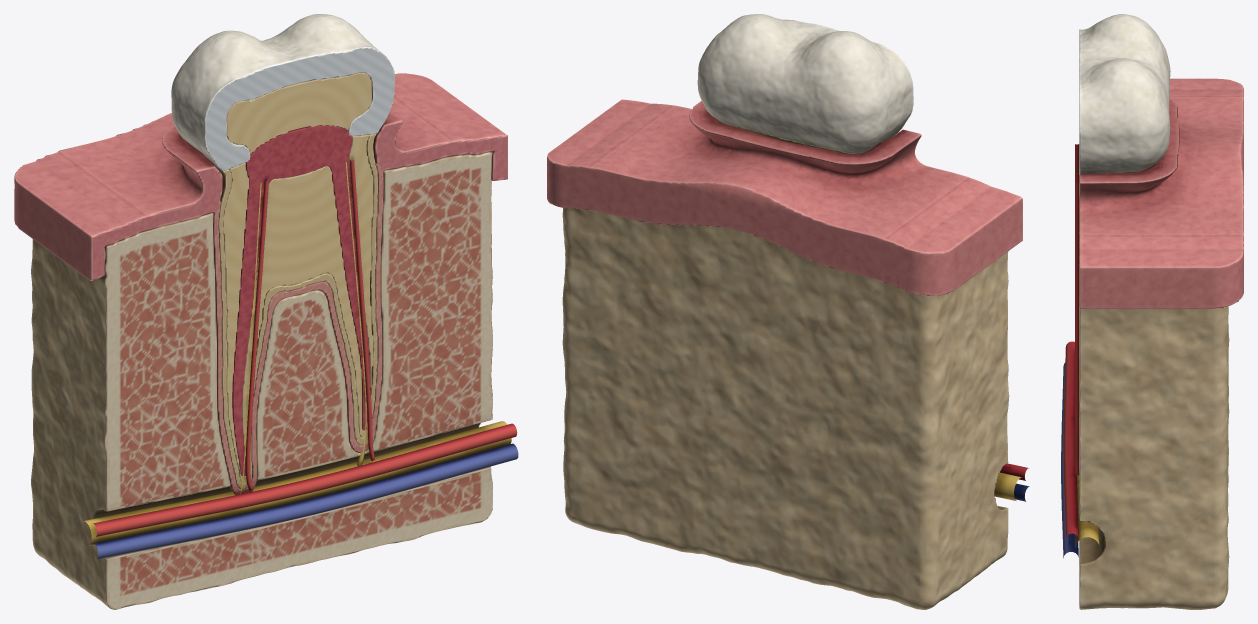
The model's file is tooth.98aa9a2f.glb.
The picture shows the model from 3 angles, left to right: view 1: azimuth 30°, elevation 25°; view 2: azimuth 150°, elevation 25°; view 3: azimuth 270°, elevation 25°; orthographic projection. The views are drawn at different scales.
Visible parts, largest first — view 1: Alveolar bone, Gingiva, Dentin, Enamel, Pulp, Dental arteries, Dental veins, Periodontal ligament, Inferior alveolar nerve, Cementum; view 2: Alveolar bone, Gingiva, Enamel; view 3: Alveolar bone, Gingiva, Enamel, Dental arteries, Inferior alveolar nerve, Dental veins.
Part boxes in pixels (x1,y1,x2,y2): Alveolar bone: (31,152,492,609); Gingiva: (14,73,507,280); Dentin: (223,72,373,482); Enamel: (171,14,394,170); Pulp: (232,125,370,475); Dental arteries: (93,160,517,536); Dental veins: (94,443,518,559); Periodontal ligament: (213,162,383,494); Inferior alveolar nerve: (83,162,511,545); Cementum: (215,134,377,489); Alveolar bone: (562,208,1009,609); Gingiva: (547,99,1022,296); Enamel: (697,14,913,153); Alveolar bone: (1079,306,1229,609); Gingiva: (1079,78,1243,308); Enamel: (1079,14,1170,174); Dental arteries: (1063,144,1078,538); Inferior alveolar nerve: (1075,144,1099,546); Dental veins: (1061,362,1078,558).
Size of the model in its own units: 3.81 by 4.57 by 1.54.
